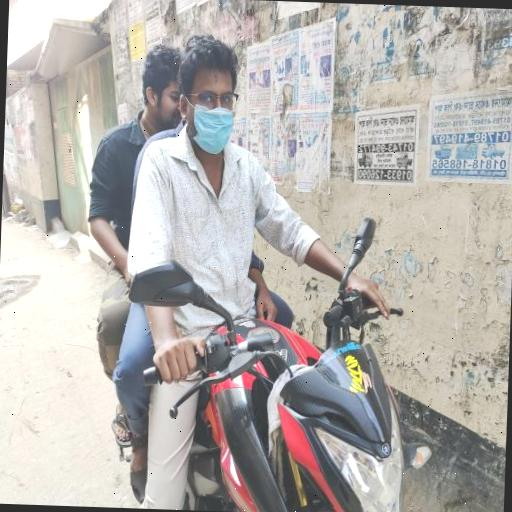no helmet: (165, 29, 264, 176)
